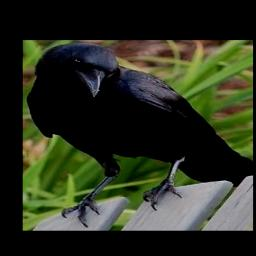Crow: (27, 43, 252, 228)
